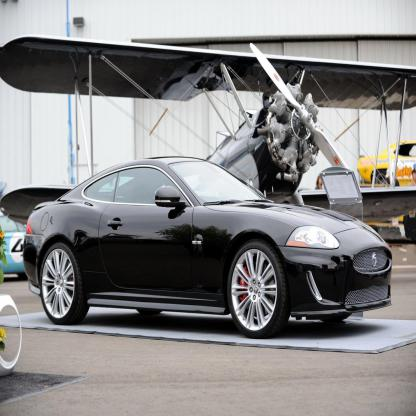Vehicle: (24, 160, 392, 338)
